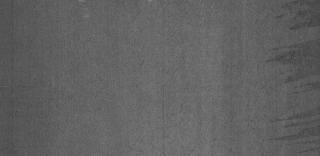water spot: (262, 9, 318, 145)
